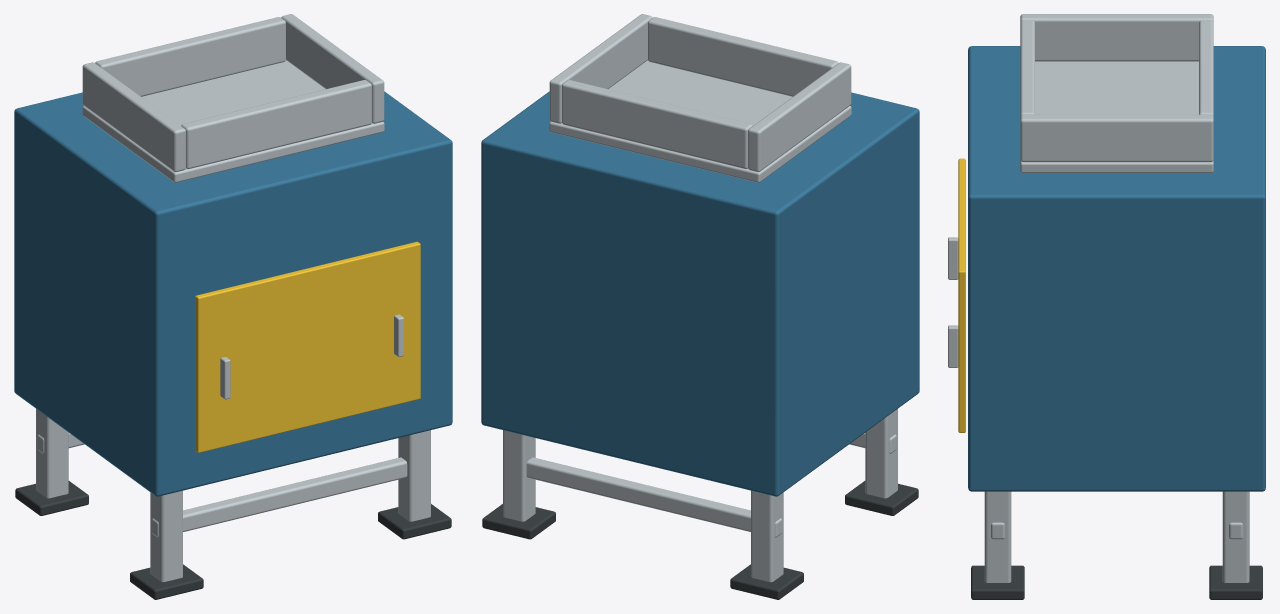
Rendered from recycling-centre-and-material-sorting-glass-breaker-en-a3ba56a1__31121.glb.
3 renders of one model, left to right at view 1: azimuth 30°, elevation 25°; view 2: azimuth 150°, elevation 25°; view 3: azimuth 270°, elevation 25°, orthographic. The views are drawn at different scales.
Visible parts, largest first — view 1: glass-breaker-enclosure; view 2: glass-breaker-enclosure; view 3: glass-breaker-enclosure.
Part boxes in pixels (<box>): glass-breaker-enclosure: <box>14,14,452,599</box>; glass-breaker-enclosure: <box>481,14,919,599</box>; glass-breaker-enclosure: <box>948,14,1265,599</box>.
Bounding box in the file's own units: 1.2 × 1.7 × 1.07.
